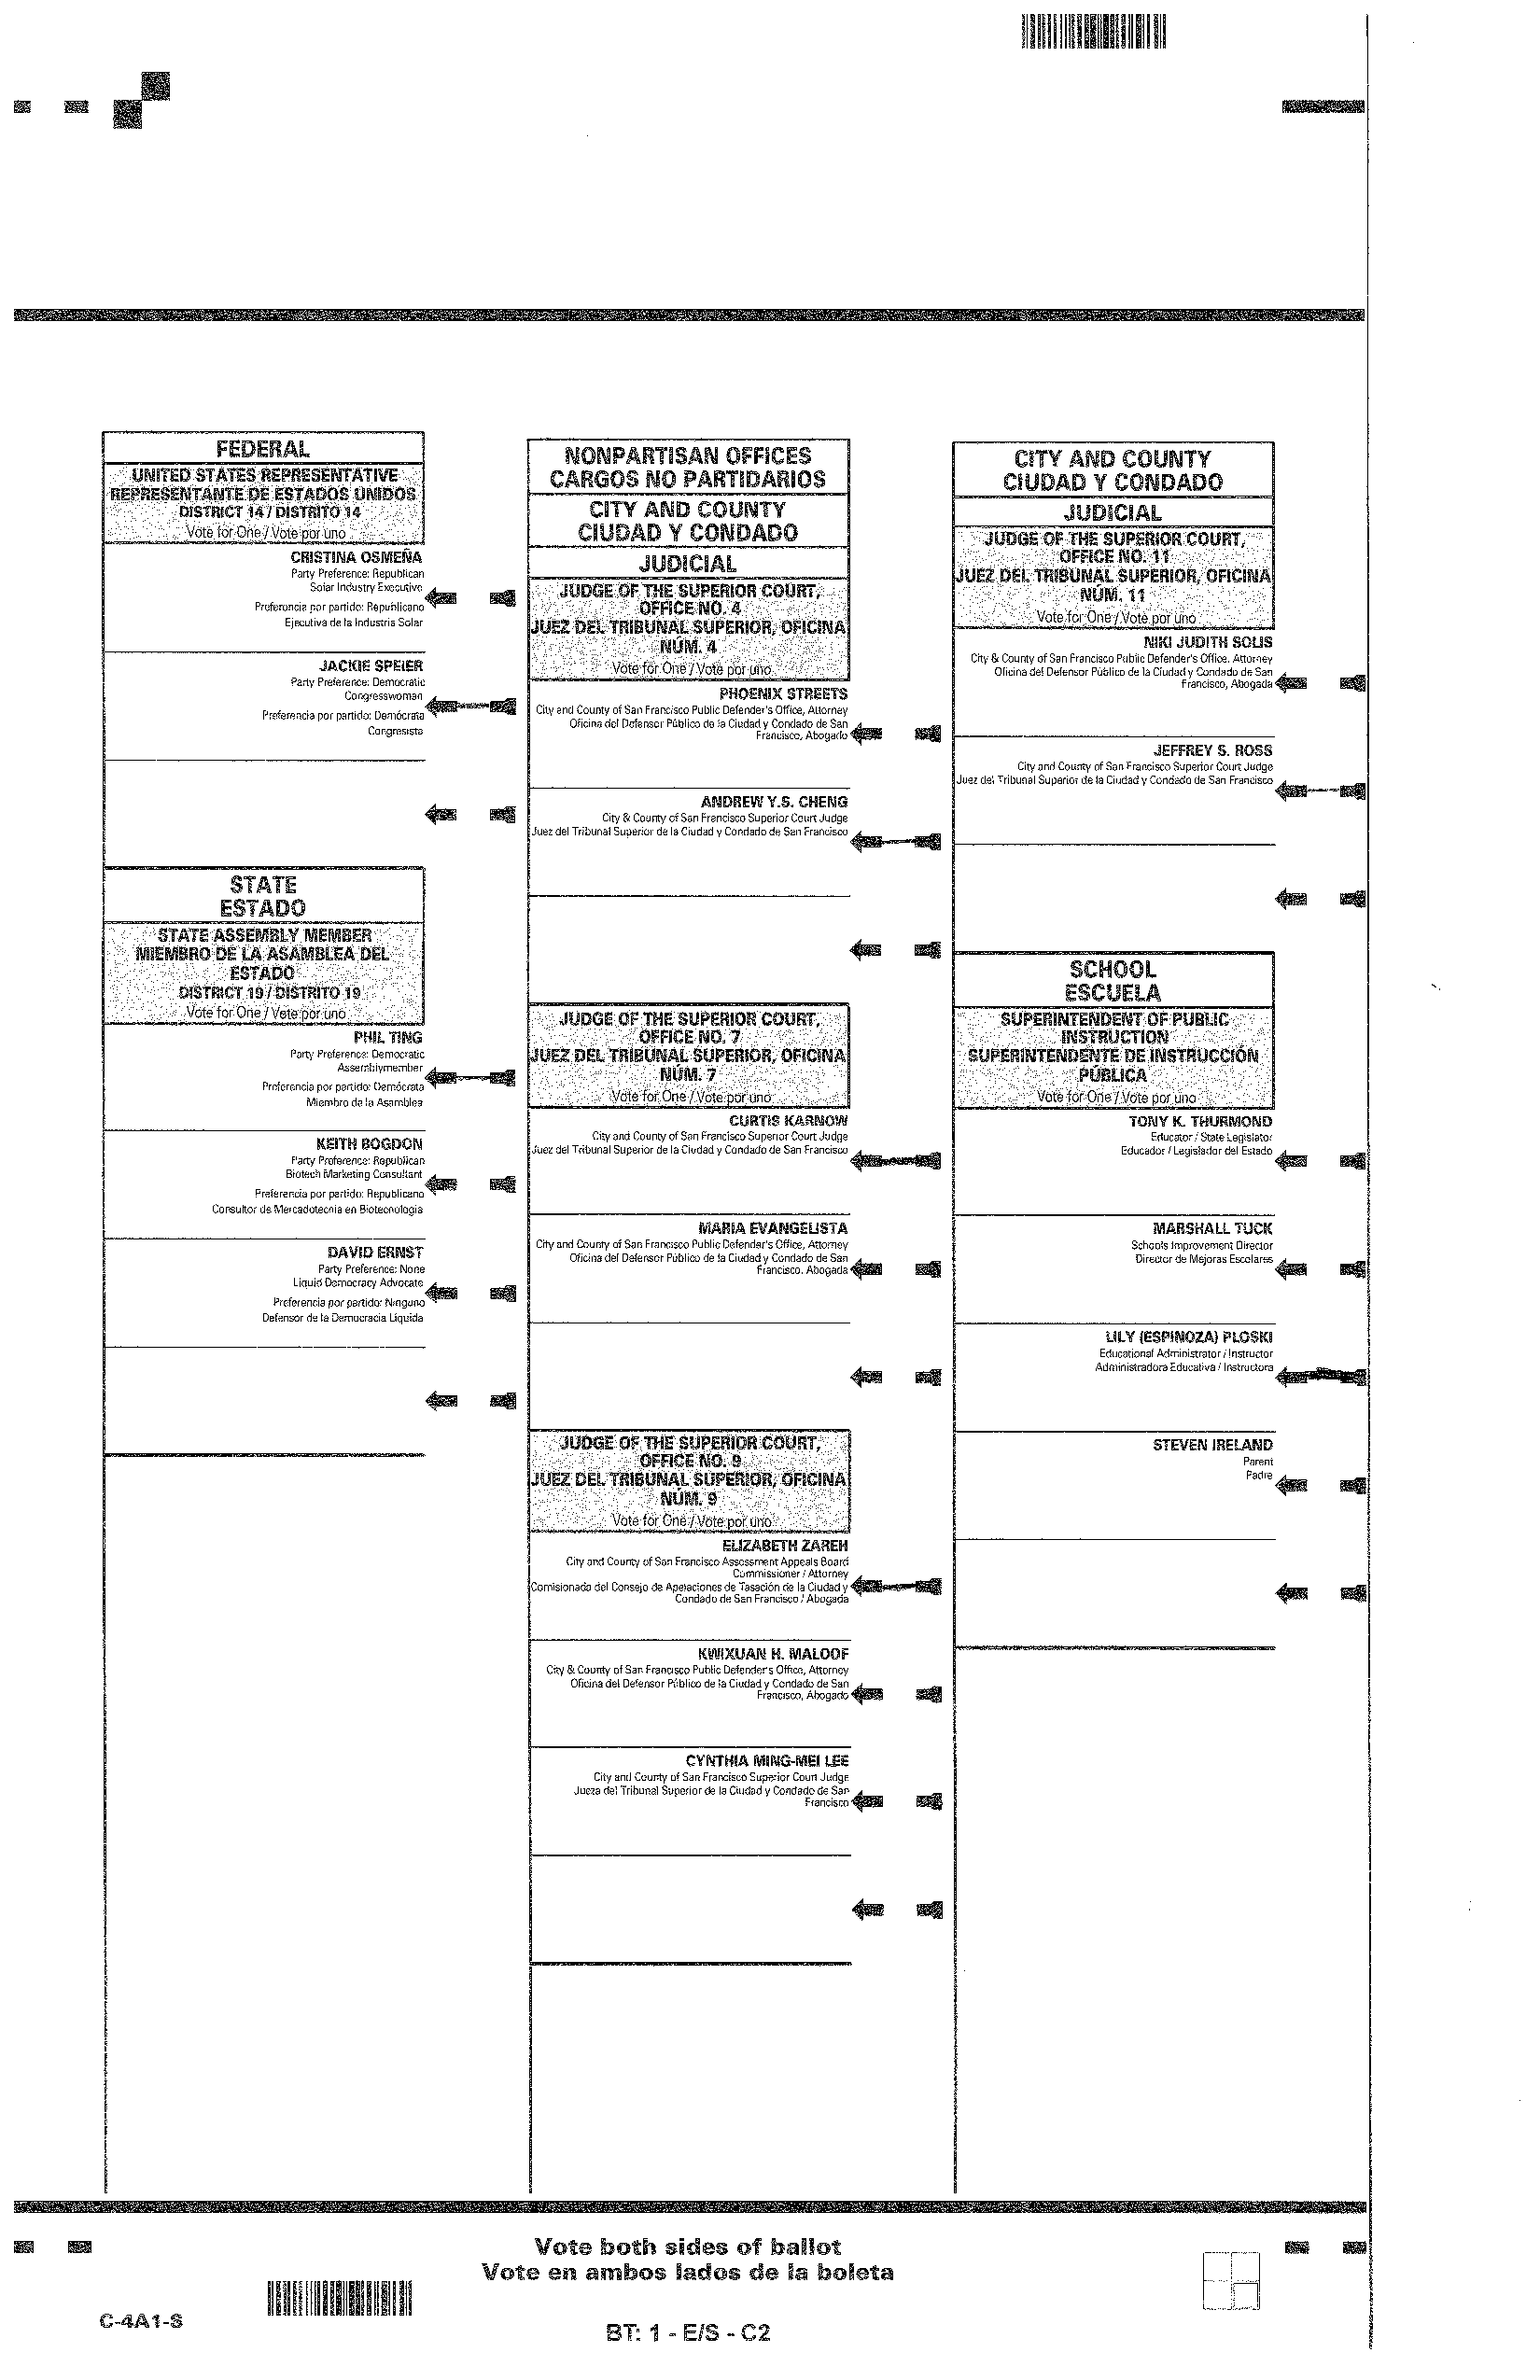marked: (850, 1572, 943, 1601), (1273, 775, 1367, 805), (423, 1065, 519, 1093), (425, 694, 519, 722), (1275, 1362, 1367, 1389), (848, 831, 943, 855), (848, 1150, 945, 1173)
unmarked: (423, 1388, 519, 1417), (1273, 668, 1367, 697), (850, 1365, 945, 1393), (1269, 885, 1367, 909), (850, 722, 945, 746), (1275, 1258, 1367, 1282), (1275, 1580, 1367, 1605)
